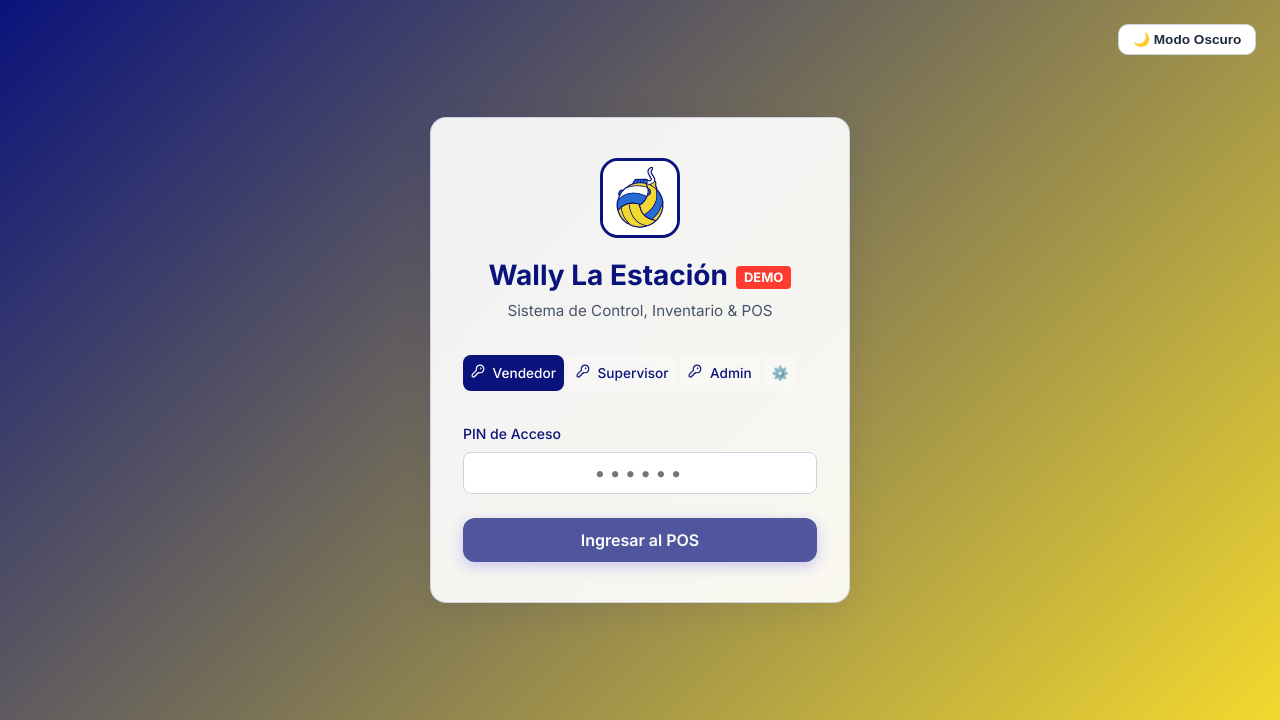
Scenario: Wally La Estación UI & Authentication Unit Tests › renders admin email/password login tab with Chrome autofill attributes
The width and height of the screenshot is (1280, 720).
// Switch to Superadmin tab
Step 1. Click the text titled "Superadmin" → click(780, 373), box [764, 355, 797, 391]
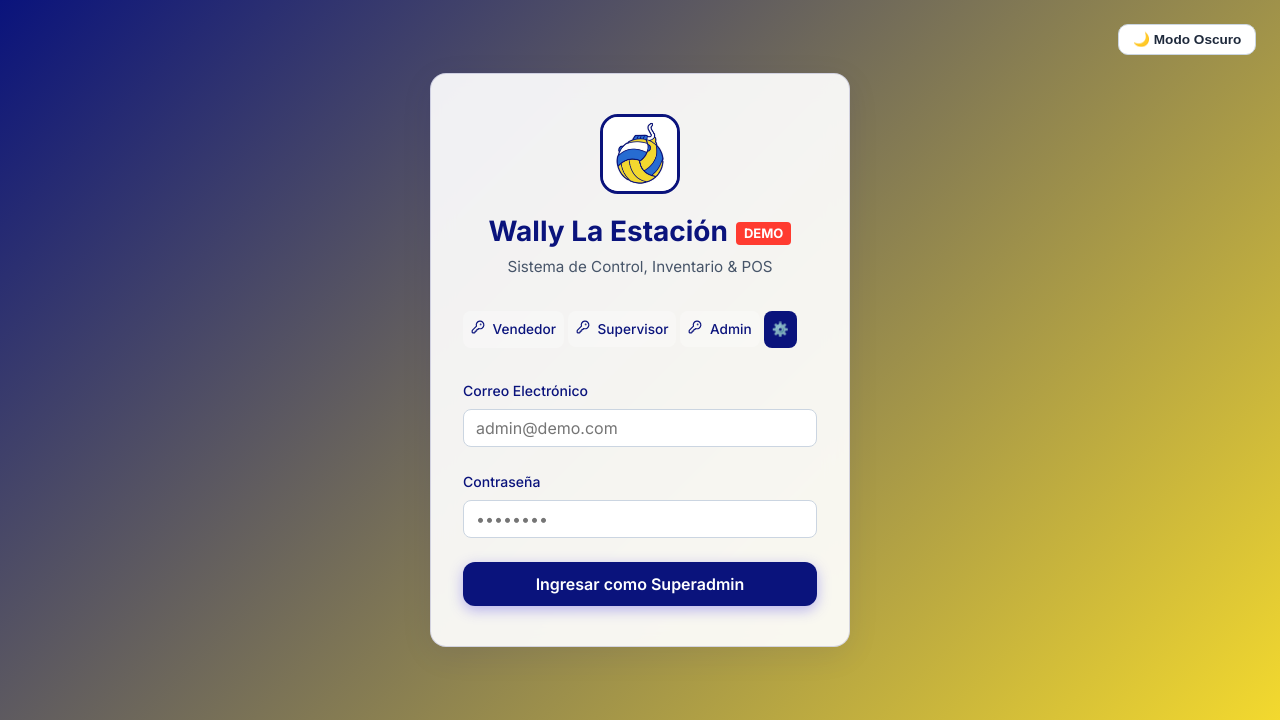
Result: the field with placeholder "admin@demo.com" is shown at [463, 409, 817, 447]
Result: the password field with placeholder "••••••••" is shown at [463, 500, 817, 538]
